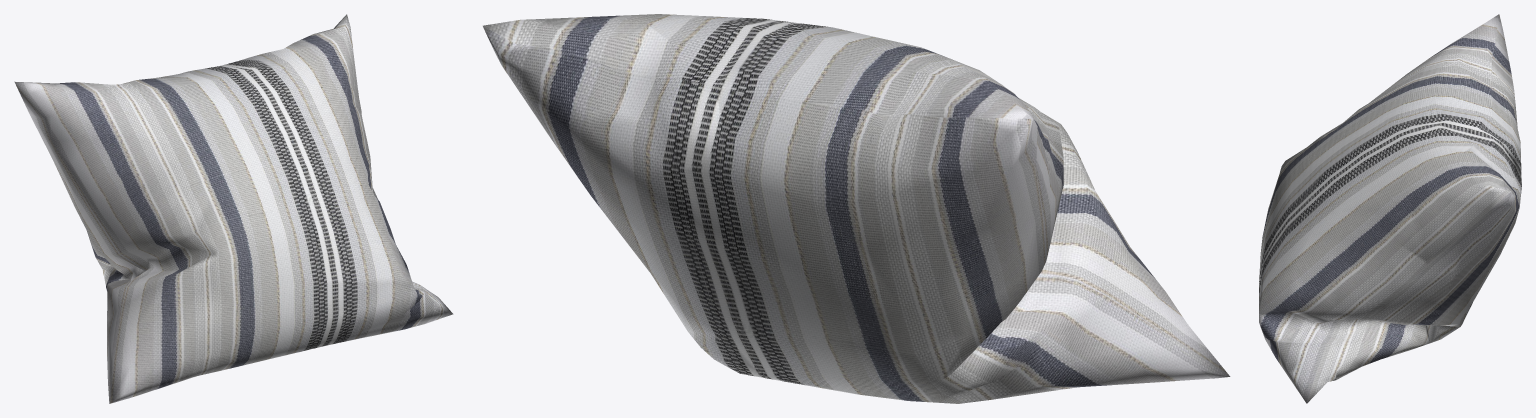
Rendered from Pillow 2.FBX.
3 views of the same model, side by side, from view 1: azimuth 30°, elevation 25°; view 2: azimuth 150°, elevation 25°; view 3: azimuth 270°, elevation 25° (orthographic). The views are drawn at different scales.
Visible parts, largest first — view 1: pillow 2; view 2: pillow 2; view 3: pillow 2.
Boxes of the visible parts, x1,y1,x2,y2 form: pillow 2: [14, 14, 453, 403]; pillow 2: [483, 14, 1230, 403]; pillow 2: [1259, 14, 1521, 403].
Size of the model in its own units: 49.69 by 32.51 by 33.4.
Materials: 1 (1 with a texture image).
